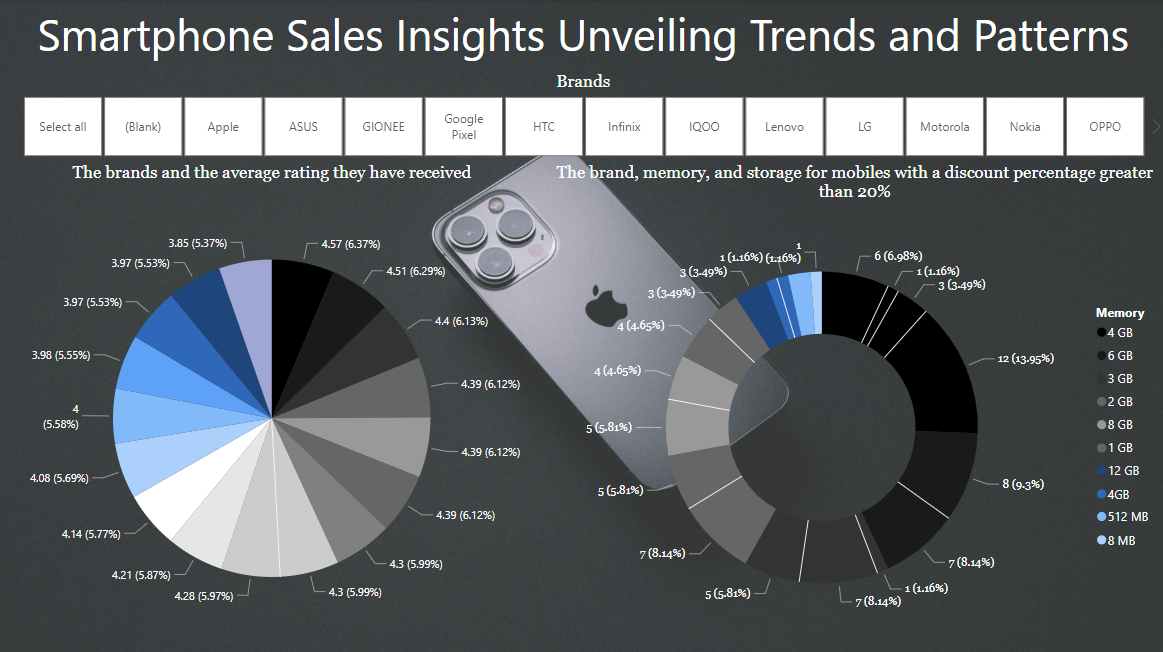

What the dashboard file says about the page in this screenshot:
{"tool":"powerbi","page":{"name":"Dashboard 2","canvas":[1280,720],"ordinal":5},"visuals":[{"type":"textbox","box":[0,0,1280.3,79.6],"z":0},{"type":"slicer","title":"Brands","fields":{"Values":["1.Brand"]},"box":[0,79.6,1280.3,100.2],"z":1000},{"type":"pieChart","title":"The brands and the average rating they have received","fields":{"Category":["5.Brand"],"Y":["Sum(5.Average_Rating)"]},"box":[0,179.8,596.9,540.7],"z":2000},{"type":"donutChart","title":"The brand, memory, and storage for mobiles with a discount percentage greater than 20%","fields":{"Y":["CountNonNull(6.Brand)"],"Series":["6.Storage"],"Category":["6.Memory"]},"box":[597,180,683,540],"z":3000}]}

Visuals, with their boxes in screenshot pixels (x1, y1, x2, y2), scaled from the page's 1280x720 canvas onto the 1163x652 screenshot:
textbox: l=0, t=0, r=1162, b=72
"Brands" slicer: l=0, t=72, r=1162, b=163
"The brands and the average rating they have received" pieChart: l=0, t=163, r=542, b=651
"The brand, memory, and storage for mobiles with a discount percentage greater than 20%" donutChart: l=542, t=163, r=1162, b=651
